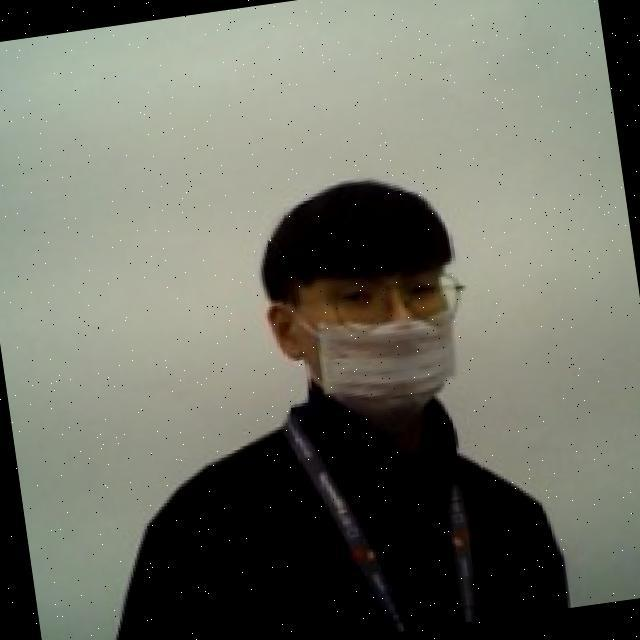mask: (263, 286, 482, 436)
no_gloves: (245, 165, 464, 308)
